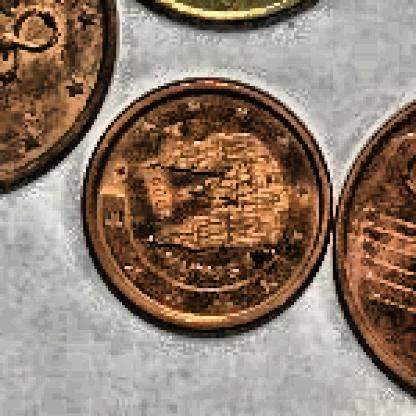coin: (78, 72, 336, 335)
